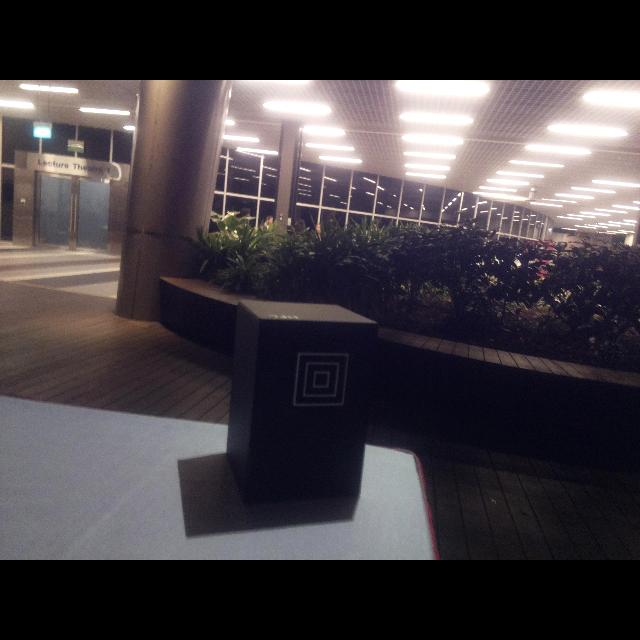BULLSEYE: (293, 353, 349, 407)
